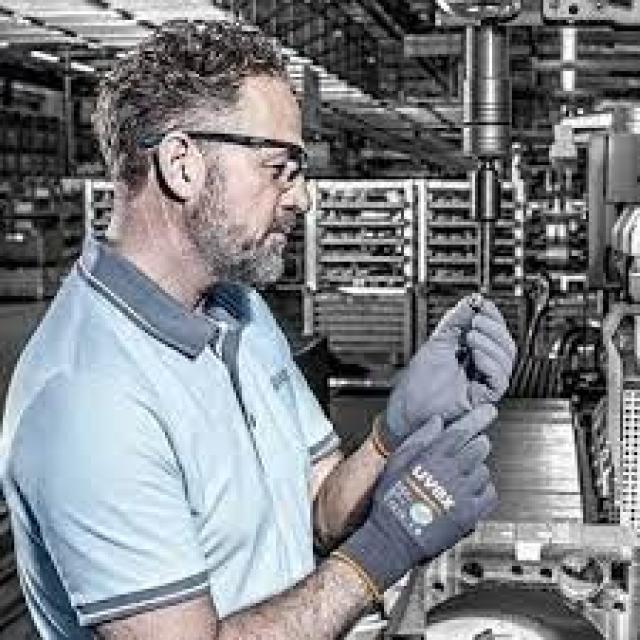Gloves: (334, 397, 503, 602), (368, 280, 526, 451)
Person: (0, 17, 515, 640)
